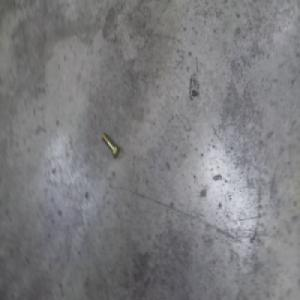Bolt: (101, 131, 121, 159)
